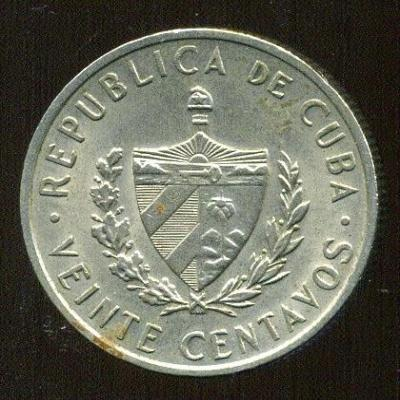numismatics: (19, 28, 380, 379)
